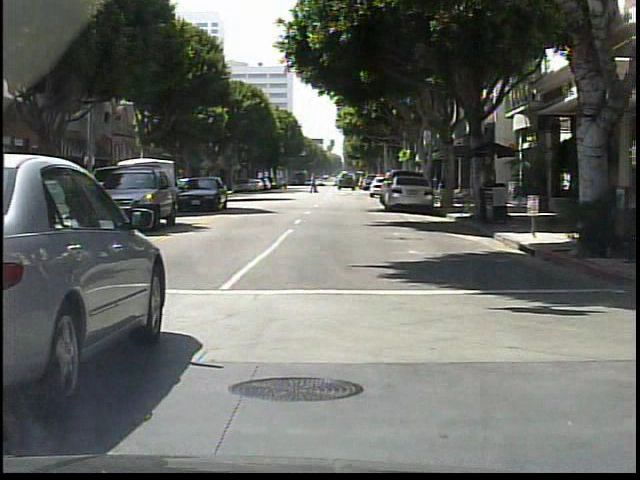person: (590, 166, 607, 237), (479, 162, 498, 223), (310, 176, 320, 195)
